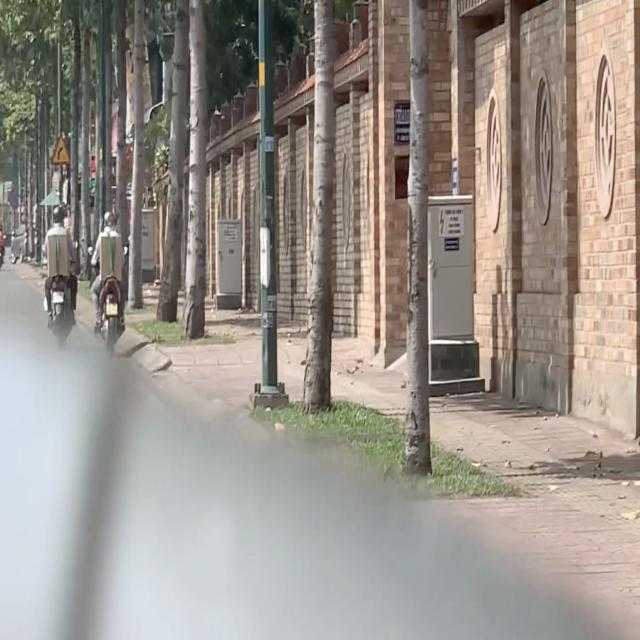Nguy hiem: (48, 130, 73, 168)
